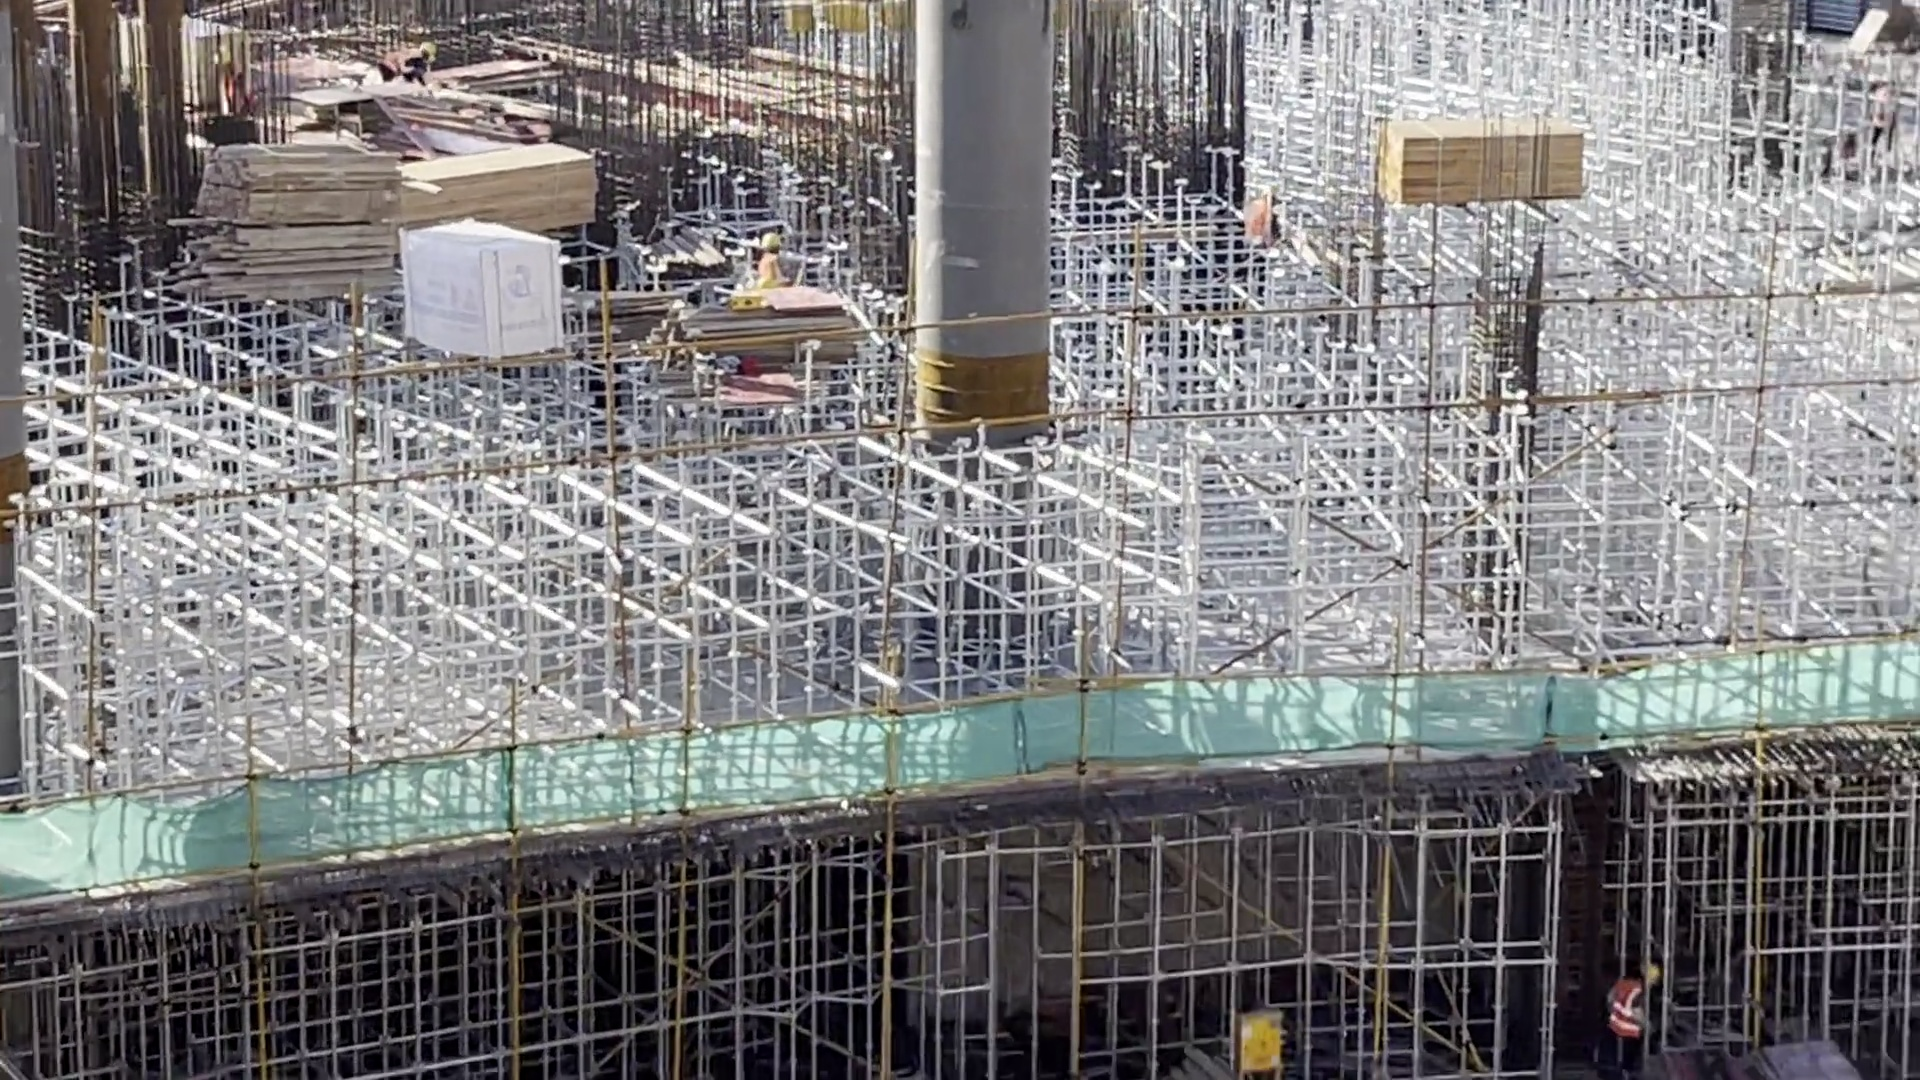helmet: (762, 233, 782, 252), (422, 40, 436, 62)
person: (1602, 964, 1659, 1080), (376, 37, 437, 85), (755, 230, 795, 285), (1243, 183, 1268, 247)
vest: (1612, 976, 1642, 1037), (758, 252, 792, 288), (384, 49, 419, 76), (1245, 205, 1270, 243)
